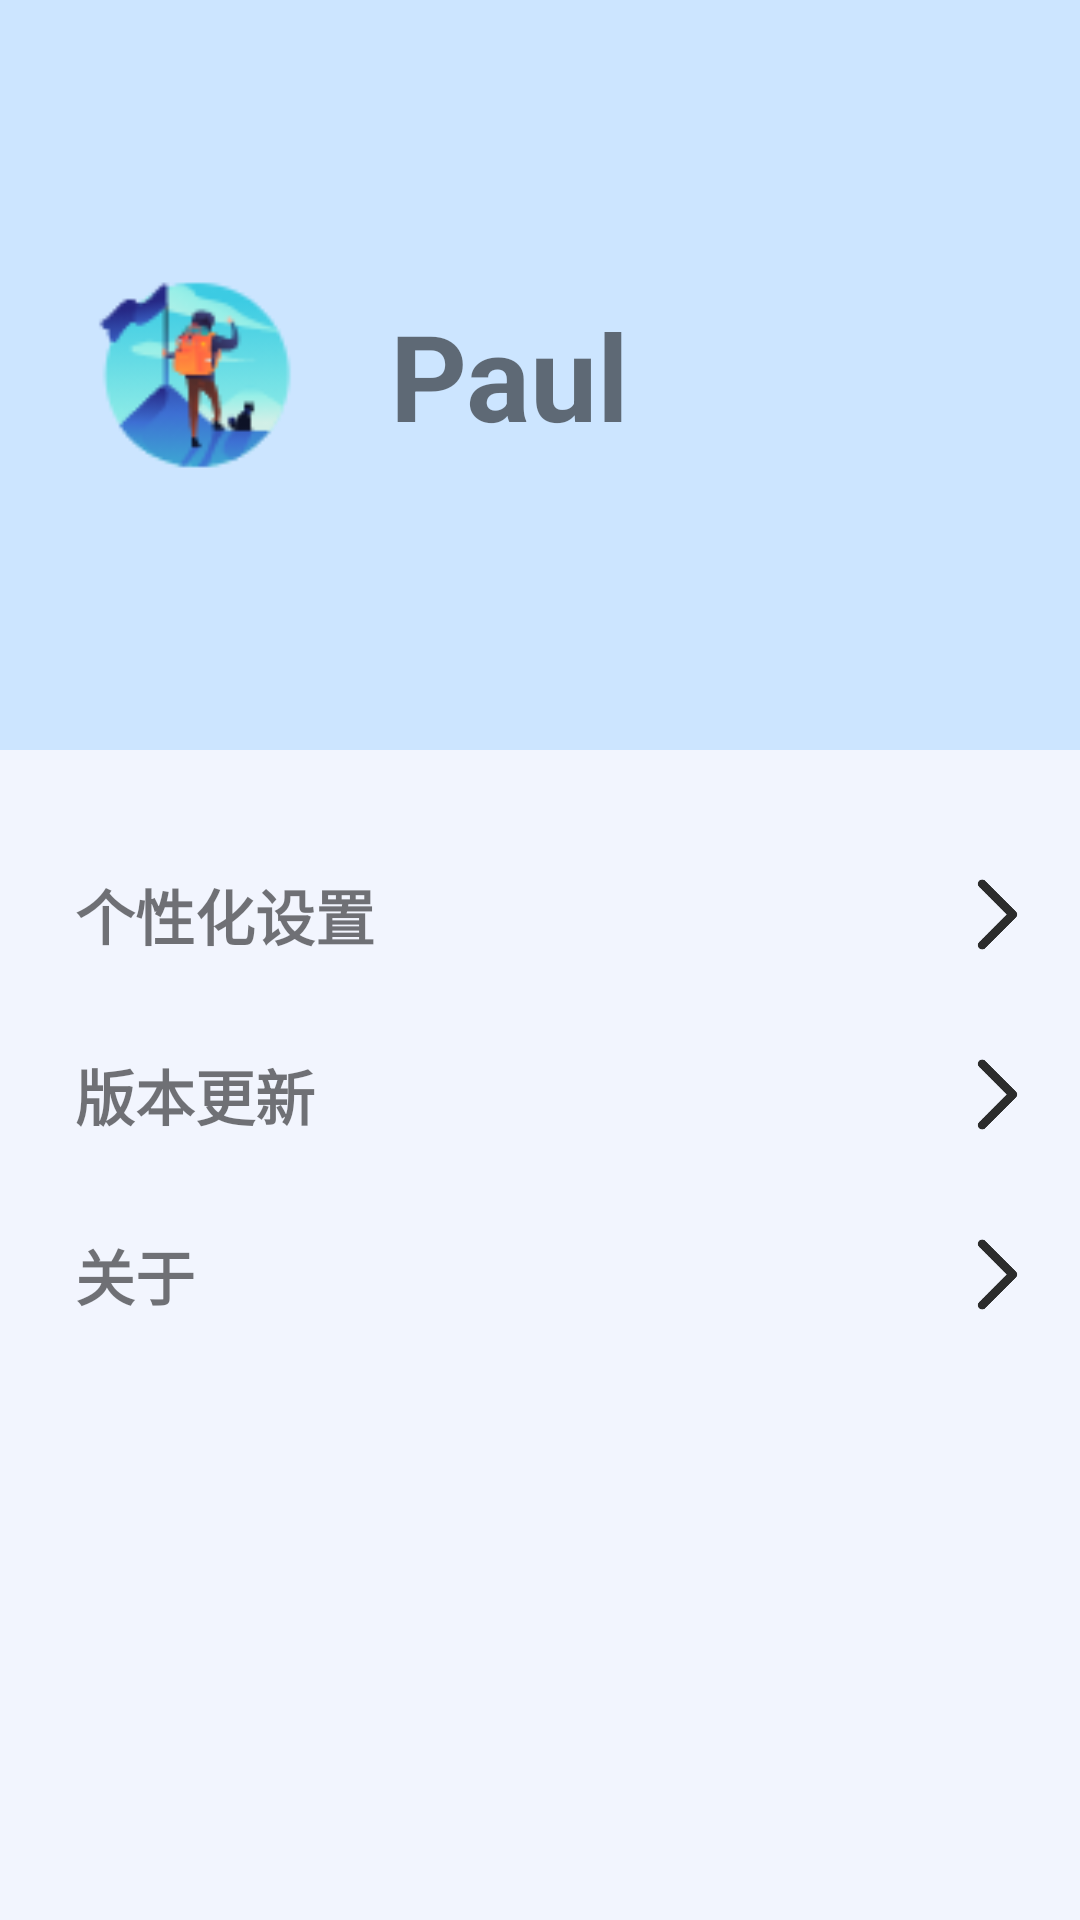

Point at icon controls on the screen. Image size 1080 × 1920, points as (x=x, y=y).
right: (x=997, y=914), (x=997, y=1094), (x=997, y=1274)
